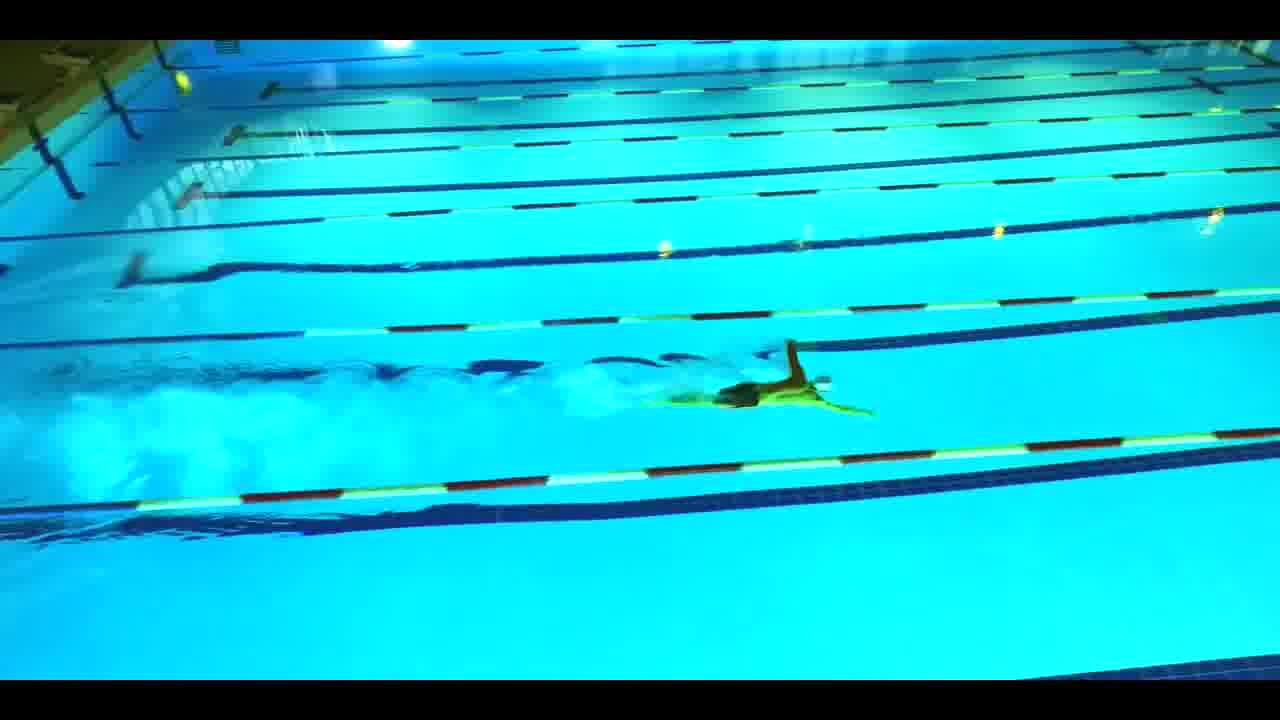swimmer: (634, 333, 882, 419)
